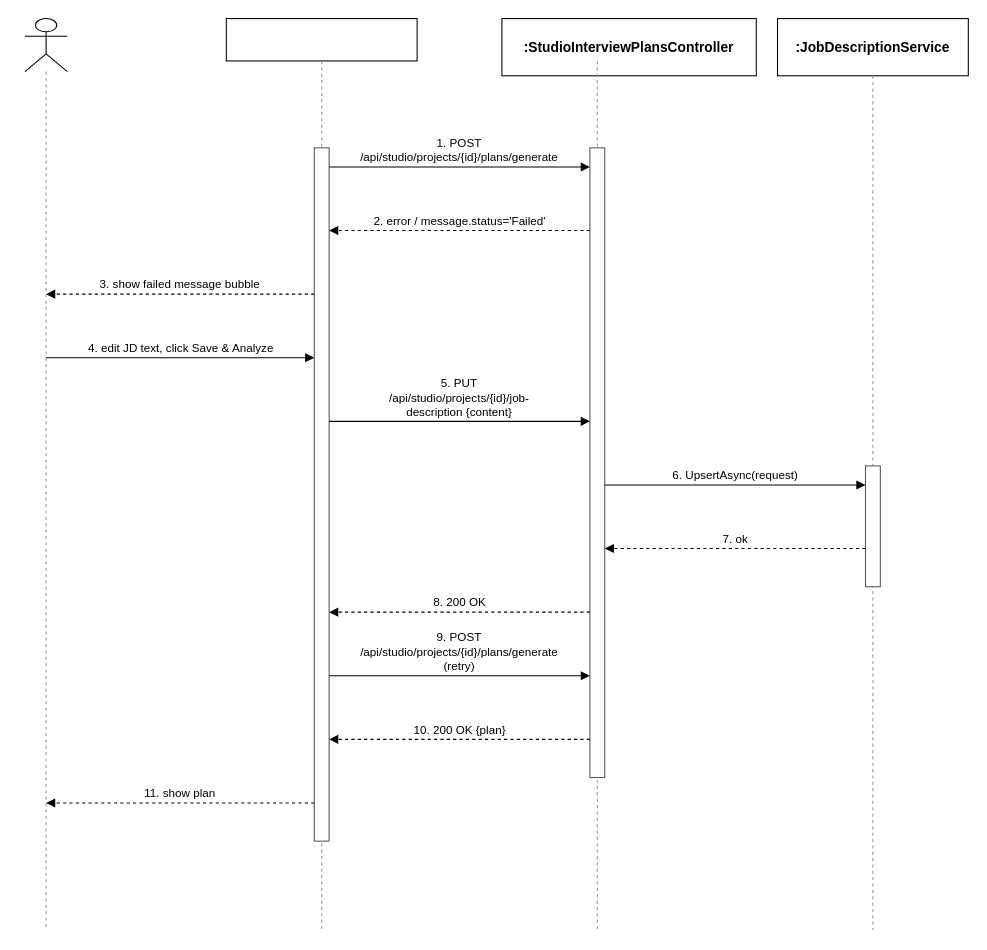
The diagram is 987 pixels wide and 950 high, and some of its shapes have lost their labels. Here are the shapes that lost their labels. From the top down, the box of each, then its label:
(24, 17, 67, 72): HR Manager
(225, 17, 417, 61): :StudioPage
